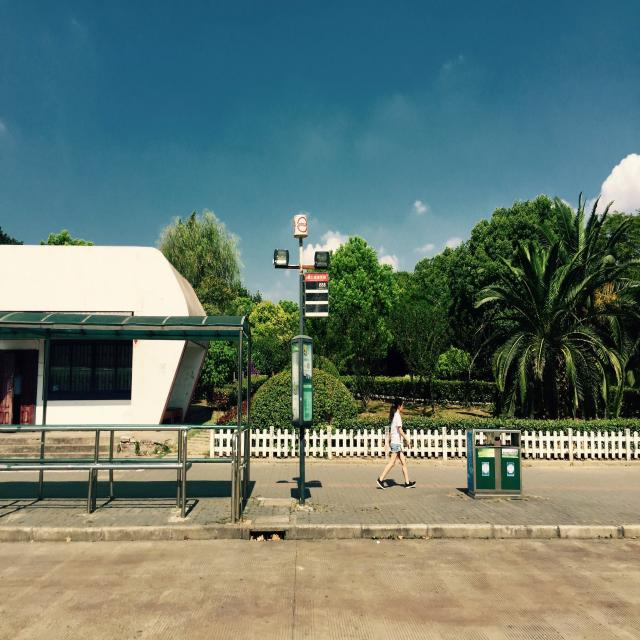adult: (375, 392, 414, 495)
